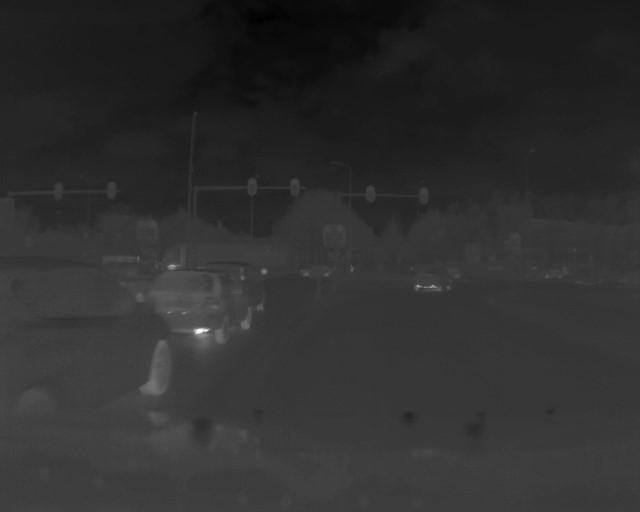car: (1, 254, 173, 407), (154, 267, 255, 344), (415, 272, 448, 294)
